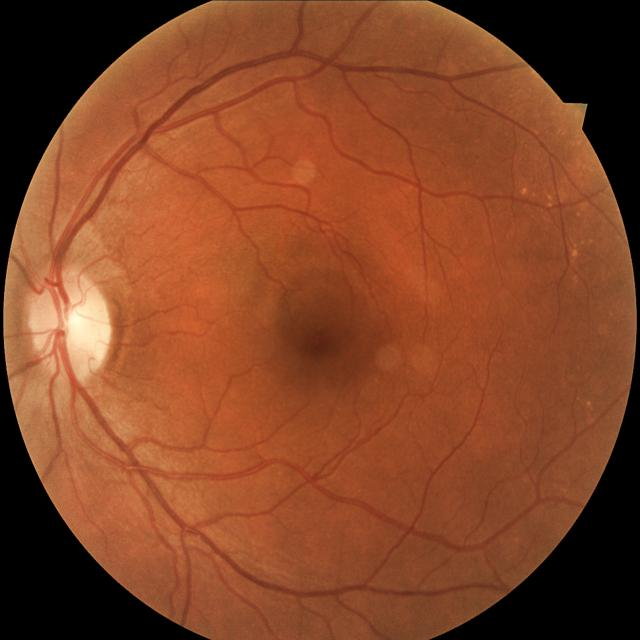OC: (66, 301, 88, 329)
OD: (28, 271, 112, 380)
